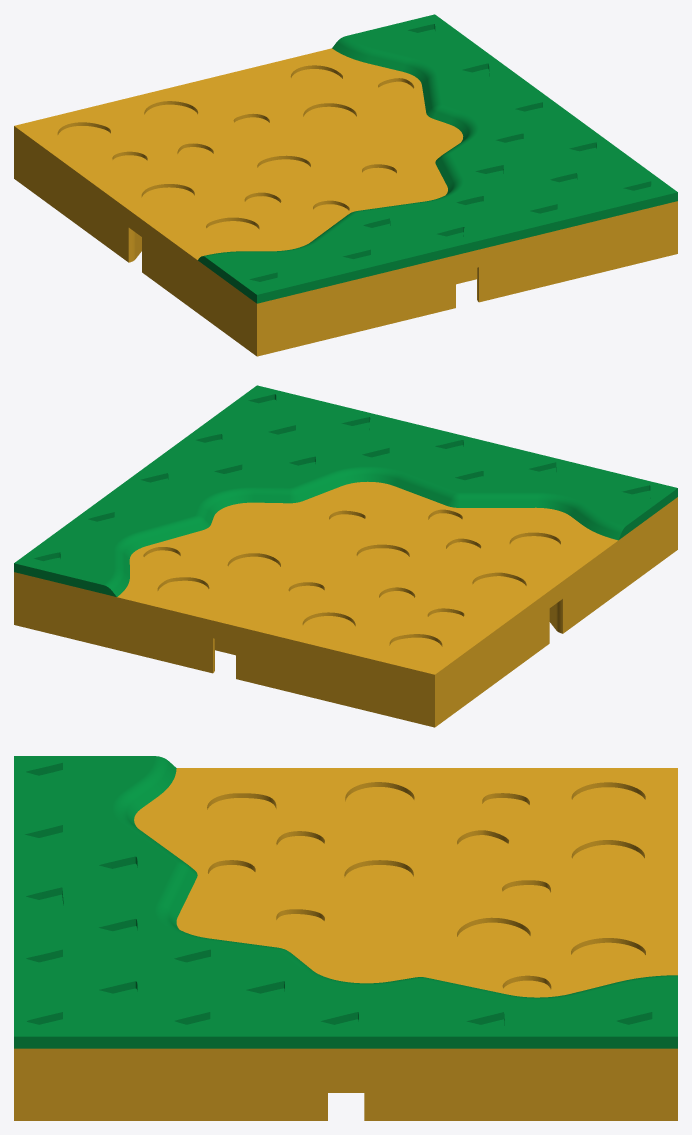
Rendered from 5x5 Grass On Sand Inner Corner.obj.
3 renders of one model, top to bottom at view 1: azimuth 30°, elevation 25°; view 2: azimuth 150°, elevation 25°; view 3: azimuth 270°, elevation 25°, orthographic. The views are drawn at different scales.
Visible parts, largest first — view 1: Körper1:1, Körper1; view 2: Körper1:1, Körper1; view 3: Körper1:1, Körper1.
Boxes of the visible parts, box(x1,y1,x2,y2) form: Körper1:1: box(14, 48, 677, 356); Körper1: box(198, 14, 677, 303); Körper1:1: box(14, 481, 677, 727); Körper1: box(14, 385, 677, 596); Körper1:1: box(14, 768, 677, 1120); Körper1: box(14, 756, 677, 1048).
Bounding box in the file's own units: 50 × 7 × 50.
